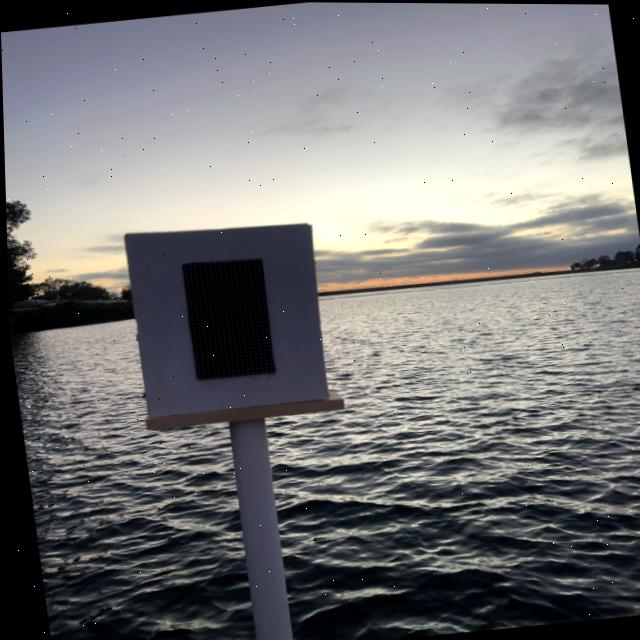led: (140, 221, 317, 415)
